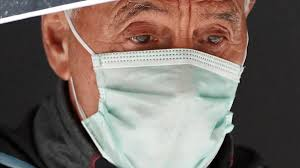with_mask: (58, 1, 260, 168)
